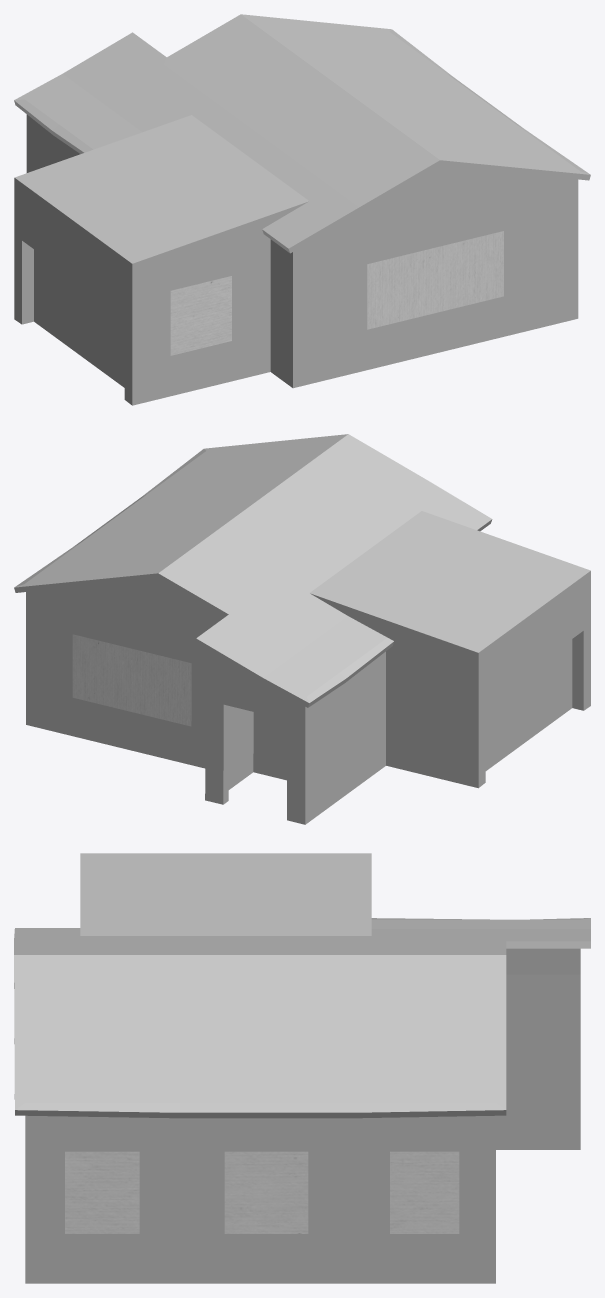
Rendered from house_B.fbx.
3 views of the same model, one above another, from view 1: azimuth 30°, elevation 25°; view 2: azimuth 150°, elevation 25°; view 3: azimuth 270°, elevation 25° (orthographic). The views are drawn at different scales.
Parts seen in each view (by area): view 1: house_B_base, house_B_roof, house_B_garageRoof, house_B_windows, house_B_doors; view 2: house_B_base, house_B_roof, house_B_garageRoof, house_B_doors, house_B_windows; view 3: house_B_roof, house_B_base, house_B_garageRoof, house_B_windows.
Boxes of the visible parts, x1=… form: house_B_base: x1=14, y1=114, x2=578, y2=405; house_B_roof: x1=14, y1=14, x2=590, y2=253; house_B_garageRoof: x1=14, y1=115, x2=308, y2=263; house_B_windows: x1=170, y1=231, x2=503, y2=355; house_B_doors: x1=34, y1=249, x2=124, y2=387; house_B_base: x1=26, y1=571, x2=590, y2=824; house_B_roof: x1=14, y1=434, x2=492, y2=707; house_B_garageRoof: x1=309, y1=511, x2=590, y2=652; house_B_doors: x1=253, y1=639, x2=572, y2=780; house_B_windows: x1=72, y1=634, x2=191, y2=726; house_B_roof: x1=14, y1=918, x2=590, y2=1118; house_B_base: x1=25, y1=948, x2=580, y2=1283; house_B_garageRoof: x1=80, y1=853, x2=371, y2=935; house_B_windows: x1=65, y1=1151, x2=459, y2=1233.
Bounding box in the file's own units: 16.96 × 7.38 × 15.88.
